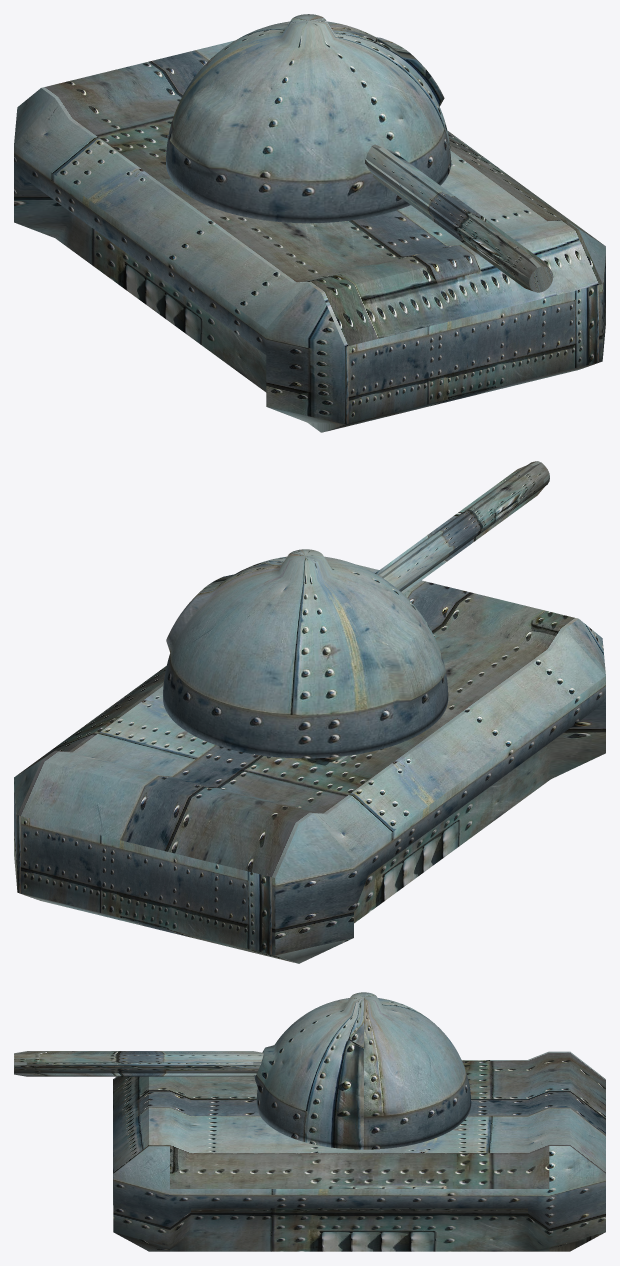
Rendered from tank.fbx.
3 views of the same model, one above another, from view 1: azimuth 30°, elevation 25°; view 2: azimuth 150°, elevation 25°; view 3: azimuth 270°, elevation 25° (orthographic). The views are drawn at different scales.
Parts seen in each view (by area): view 1: korpys, bashnya, dylo; view 2: korpys, bashnya, dylo; view 3: korpys, bashnya, dylo.
Part boxes in pixels (bbox=[...]): korpys: bbox=[14, 40, 605, 432]; bashnya: bbox=[166, 14, 451, 223]; dylo: bbox=[365, 144, 553, 292]; korpys: bbox=[14, 564, 605, 963]; bashnya: bbox=[163, 549, 448, 758]; dylo: bbox=[375, 461, 549, 593]; korpys: bbox=[113, 1051, 605, 1251]; bashnya: bbox=[254, 992, 471, 1149]; dylo: bbox=[14, 1051, 263, 1076].
Bounding box in the file's own units: 82.69 × 64.06 × 166.
